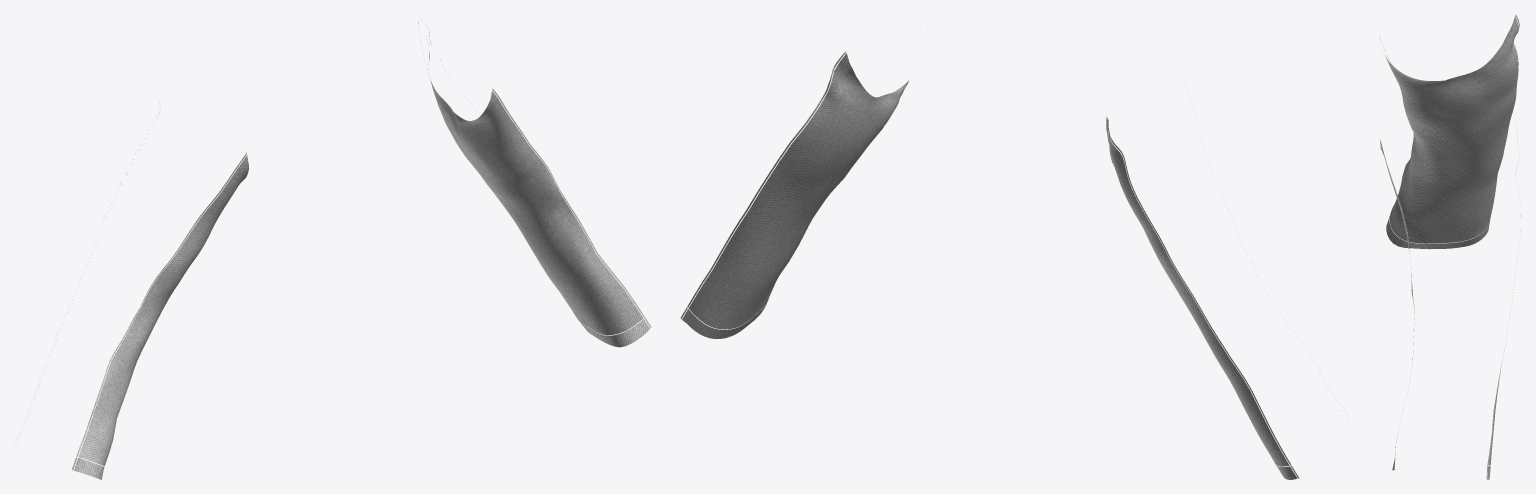
File: Decor_Hand_Down.glb
The picture shows the model from 3 angles, left to right: view 1: azimuth 30°, elevation 25°; view 2: azimuth 150°, elevation 25°; view 3: azimuth 270°, elevation 25°; orthographic projection. The views are drawn at different scales.
Parts seen in each view (by area): view 1: Decor_Hand_Down1; view 2: Decor_Hand_Down1; view 3: Decor_Hand_Down1.
Part boxes in pixels (x1=…): Decor_Hand_Down1: x1=15, y1=22, x2=651, y2=479; Decor_Hand_Down1: x1=680, y1=30, x2=1349, y2=479; Decor_Hand_Down1: x1=1379, y1=14, x2=1521, y2=479.
Bounding box in the file's own units: 1.74 × 0.9196 × 0.401.
Materials: 1 (1 with a texture image).
